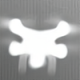plane: (3, 16, 77, 75)
